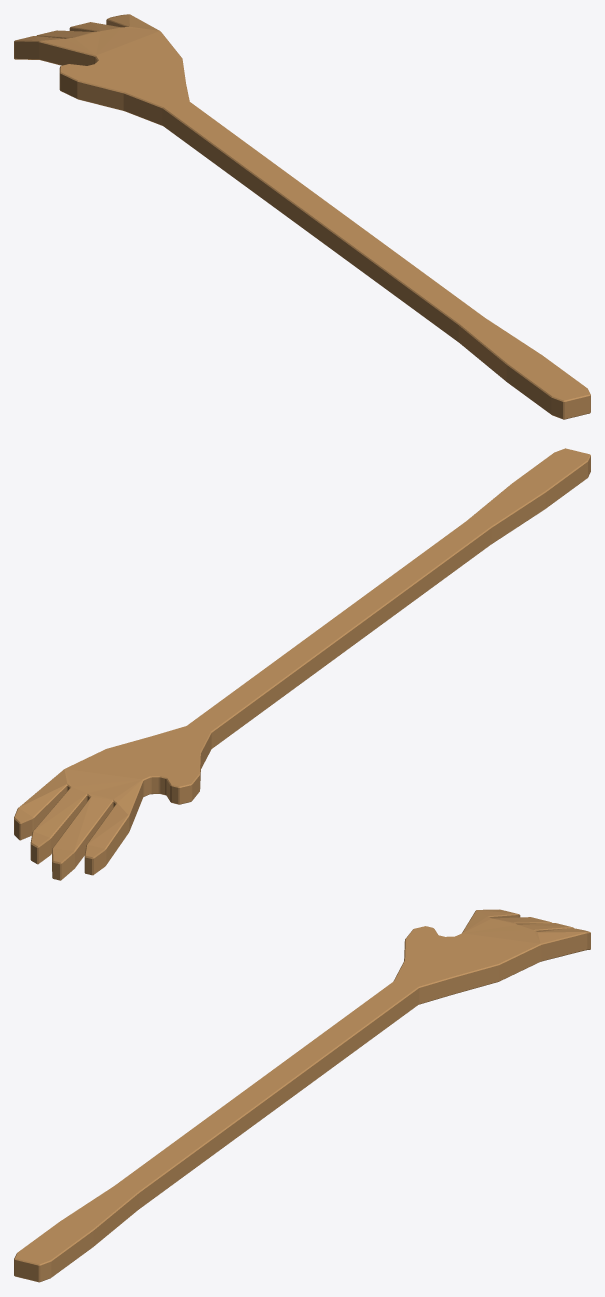
The picture shows the model from 3 angles, top to bottom: view 1: azimuth 30°, elevation 25°; view 2: azimuth 150°, elevation 25°; view 3: azimuth 330°, elevation 25°; orthographic projection. The views are drawn at different scales.
Visible parts, largest first — view 1: Hand shaped wooden back scratcher; view 2: Hand shaped wooden back scratcher; view 3: Hand shaped wooden back scratcher.
Boxes of the visible parts, x1,y1,x2,y2 form: Hand shaped wooden back scratcher: (14,14,590,419); Hand shaped wooden back scratcher: (14,448,590,880); Hand shaped wooden back scratcher: (14,909,590,1282).
Bounding box in the file's own units: 0.0559 × 0.0237 × 0.414.
